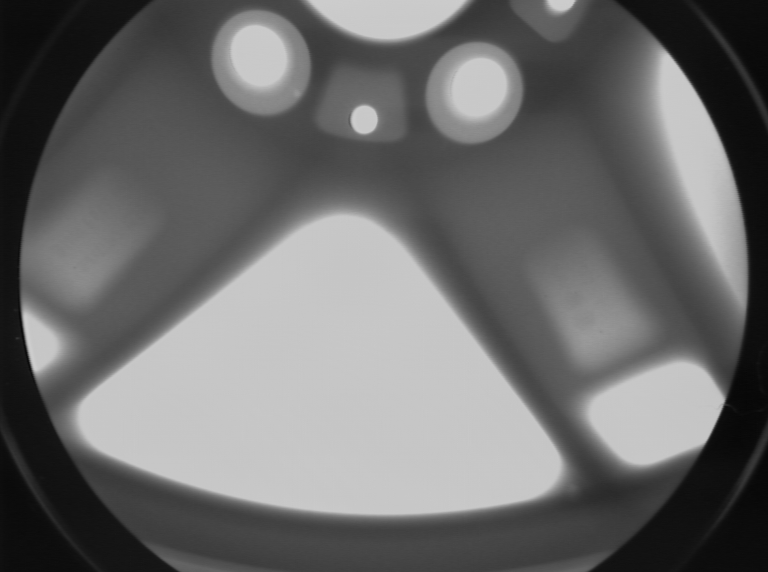defect: (289, 86, 308, 103)
